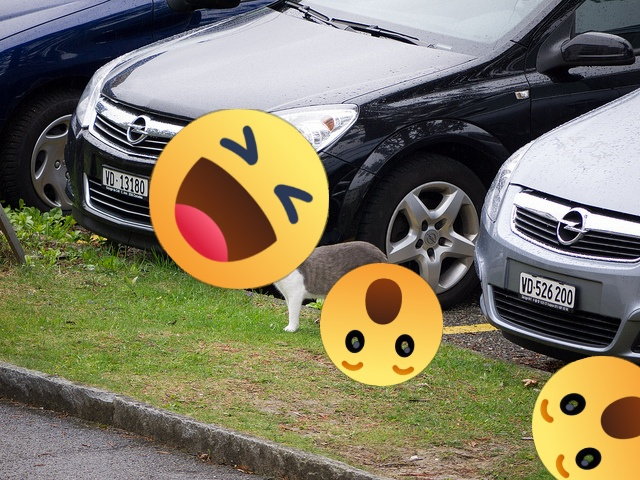haha: (149, 109, 329, 289)
wow: (320, 263, 443, 386), (532, 356, 640, 480)
